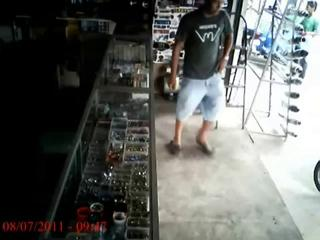Normal: (301, 0, 320, 34)
shoplifting: (166, 0, 234, 155)
